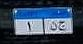1: (26, 22, 32, 32)
jeem: (59, 21, 67, 31)
noon: (50, 22, 57, 31)
